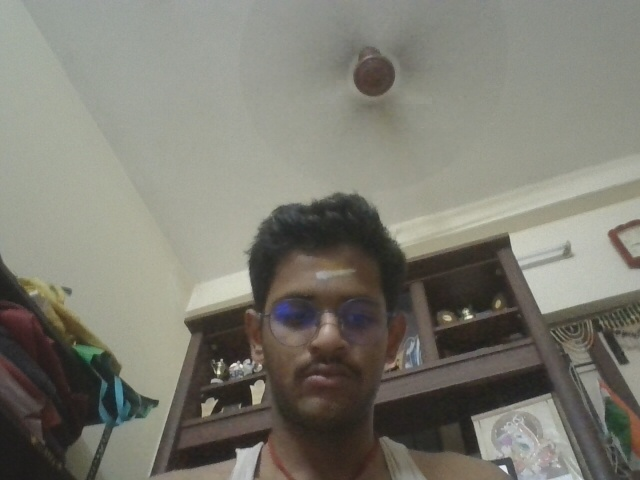real: (248, 248, 410, 410)
